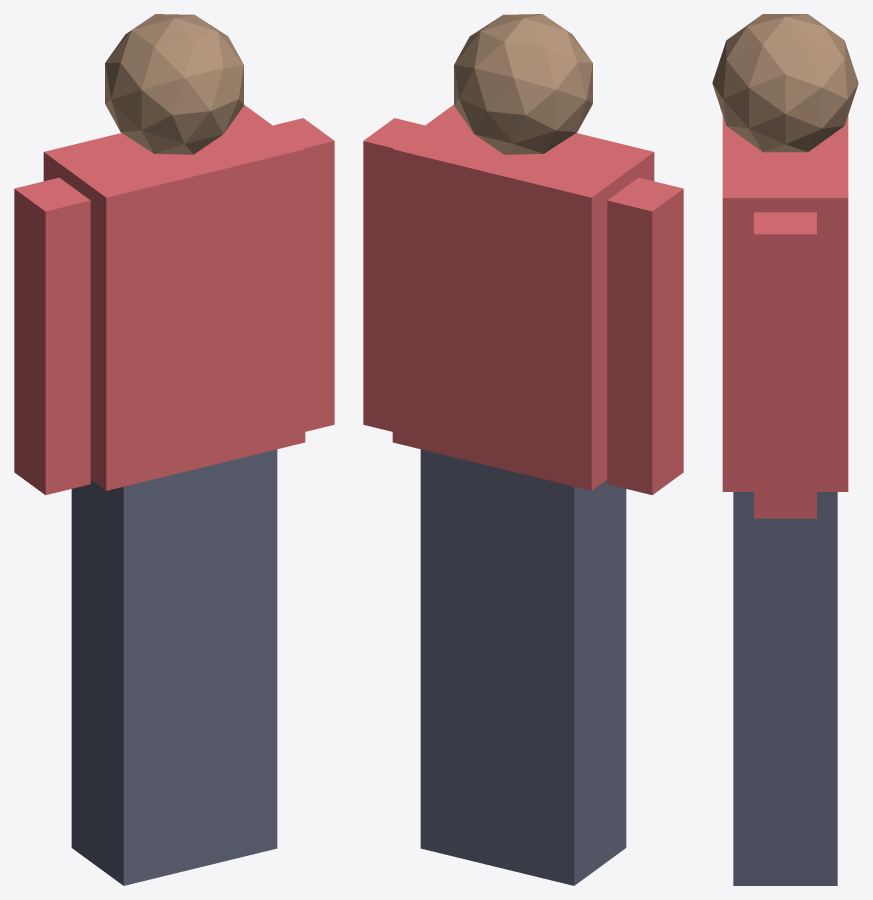
The model's file is person-a.glb.
The picture shows the model from 3 angles, left to right: view 1: azimuth 30°, elevation 25°; view 2: azimuth 150°, elevation 25°; view 3: azimuth 270°, elevation 25°; orthographic projection.
Visible parts, largest first — view 1: l, t, a, h, b; view 2: l, t, a, h, b; view 3: l, t, b, h.
Boxes of the visible parts, box(x1,y1,x2,y2) form: l: box(71, 449, 277, 885); t: box(43, 104, 305, 490); a: box(14, 177, 90, 495); h: box(105, 14, 243, 154); b: box(273, 118, 334, 431); l: box(420, 449, 626, 885); t: box(392, 104, 654, 490); a: box(607, 177, 683, 495); h: box(454, 14, 592, 154); b: box(363, 118, 424, 431); l: box(733, 492, 837, 885); t: box(722, 115, 848, 491); b: box(754, 212, 816, 518); h: box(712, 14, 858, 152).
Size of the model in its own units: 0.64 by 1.75 by 0.28.
